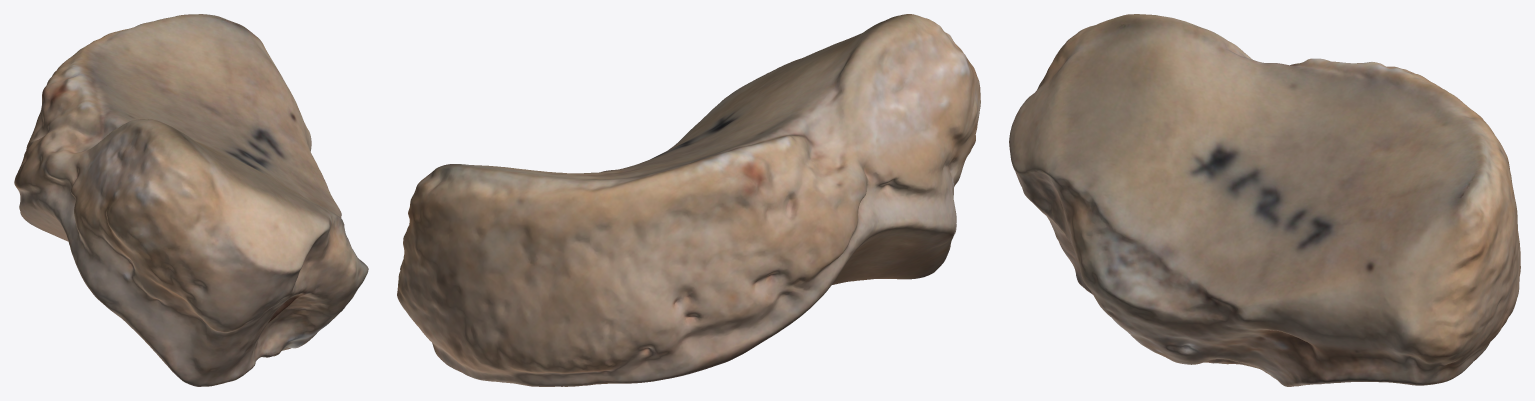
The picture shows the model from 3 angles, left to right: view 1: azimuth 30°, elevation 25°; view 2: azimuth 150°, elevation 25°; view 3: azimuth 270°, elevation 25°; orthographic projection. The views are drawn at different scales.
Visible parts, largest first — view 1: Node; view 2: Node; view 3: Node.
Part boxes in pixels (x1,y1,x2,y2): Node: (14, 14, 368, 386); Node: (397, 14, 980, 386); Node: (1009, 14, 1520, 386).
Bounding box in the file's own units: 28.32 × 22.44 × 35.47.
1 material, 1 textured.
